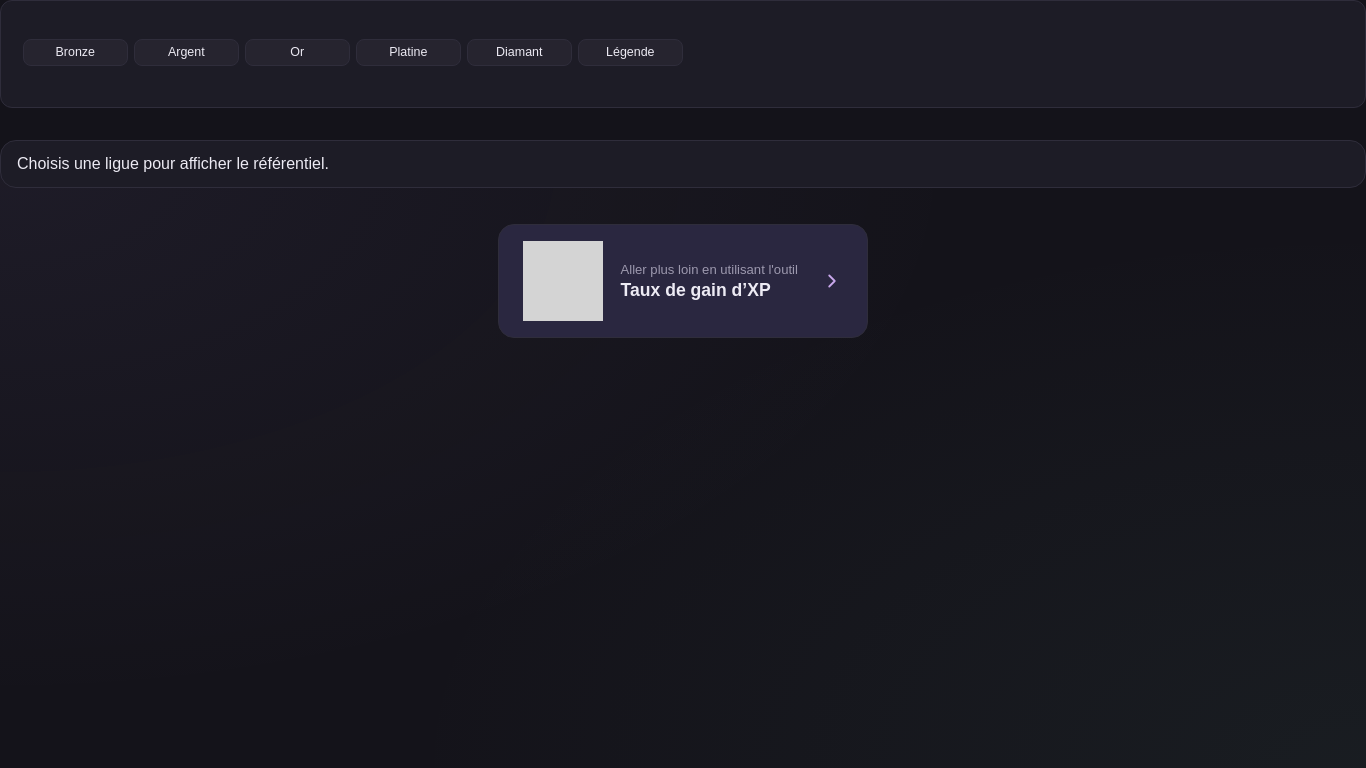
Test: LevelUpReference › renders the confirmed gold table
Click the button "Or" at (297, 52), box left=245, top=39, right=350, bottom=66
(page scrolled)
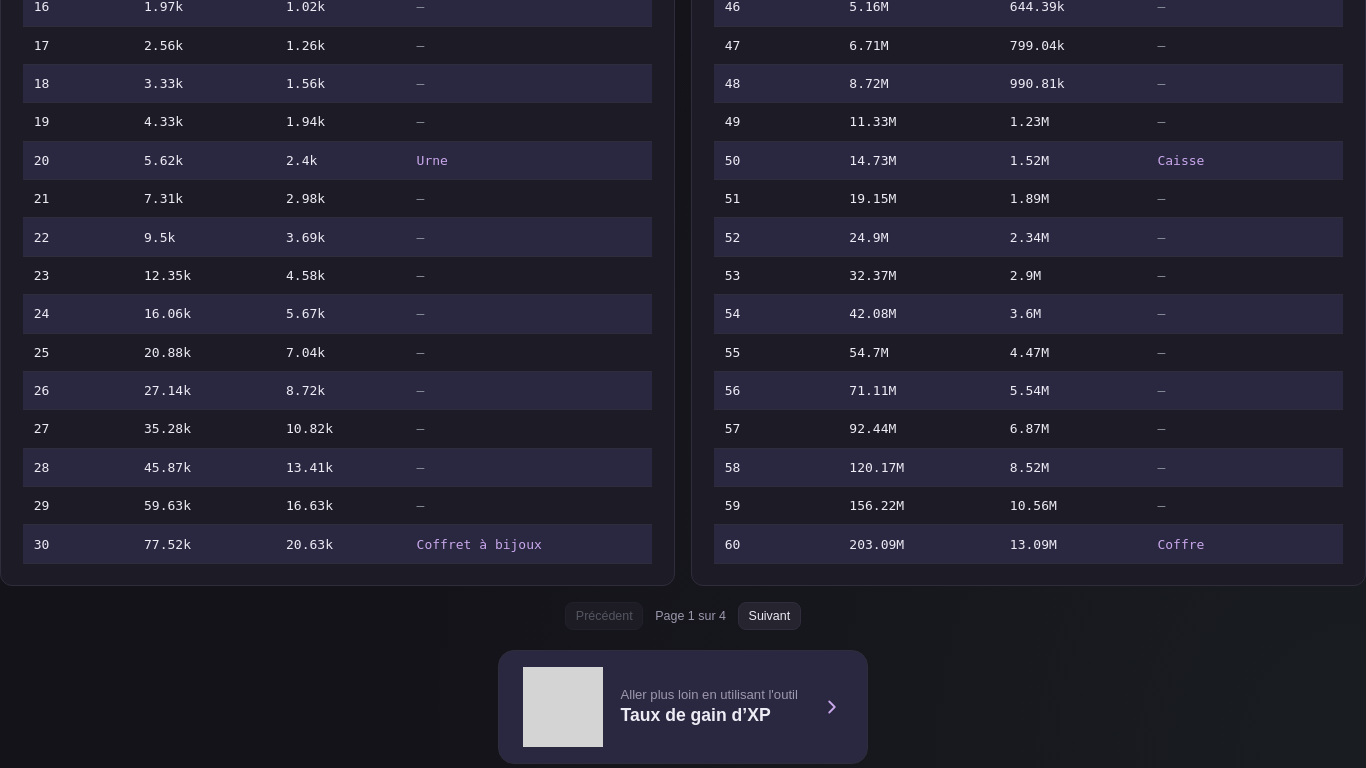
Check: the text "Coffret à bijoux" is shown, box left=405, top=525, right=652, bottom=563
